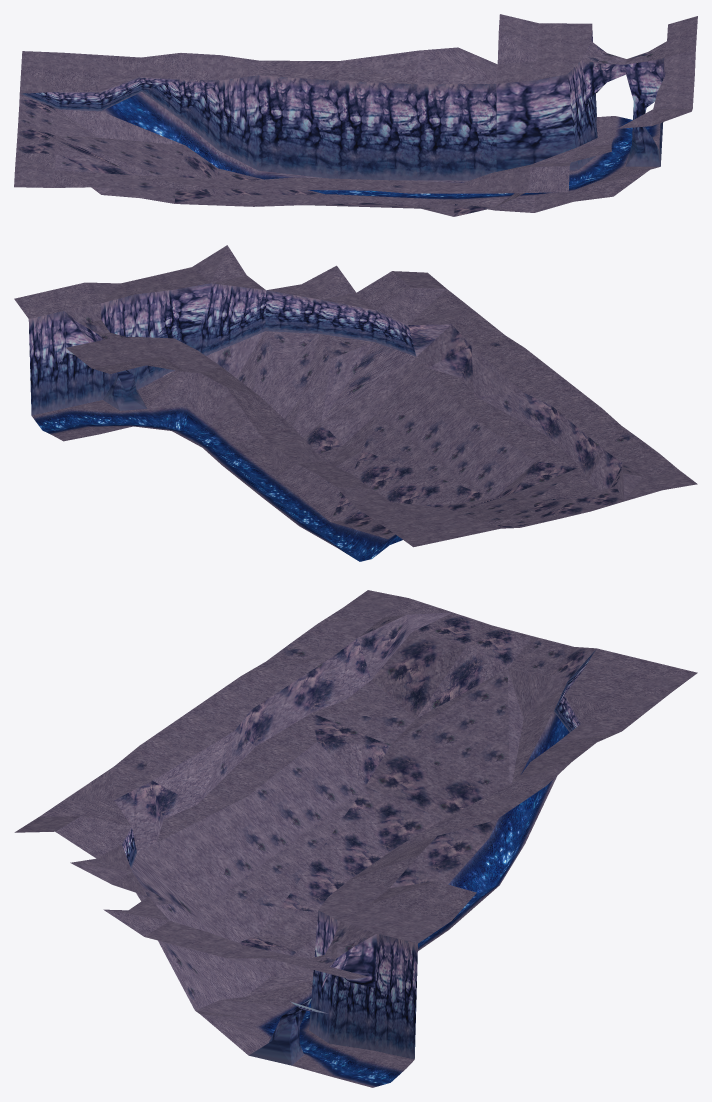
File: fan01.glb
3 views of the same model, one above another, from view 1: azimuth 30°, elevation 25°; view 2: azimuth 150°, elevation 25°; view 3: azimuth 270°, elevation 25° (orthographic). The views are drawn at different scales.
Parts seen in each view (by area): view 1: fan01; view 2: fan01; view 3: fan01.
Boxes of the visible parts, bbox=[...] form: fan01: bbox=[14, 14, 697, 216]; fan01: bbox=[14, 245, 697, 561]; fan01: bbox=[14, 590, 697, 1087].
Bounding box in the file's own units: 33073 × 5877 × 23709.
5 materials, 5 textured.
